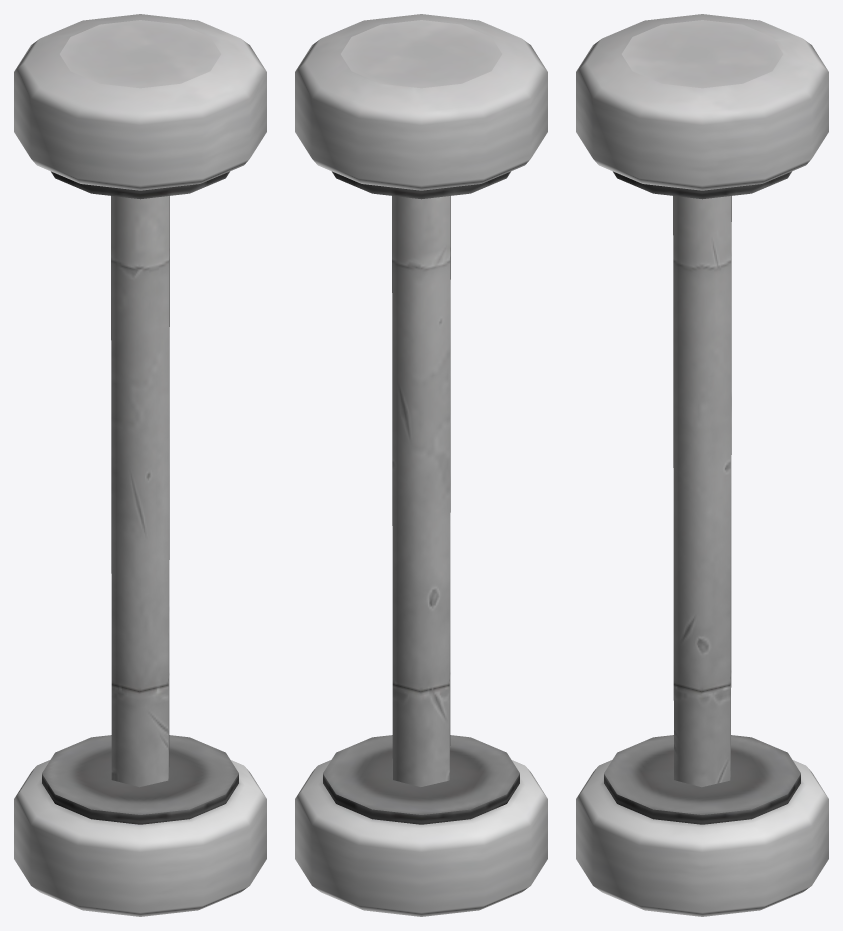
The model's file is MeleeWeaponAgent_BarbedWire.fbx.
3 renders of one model, left to right at view 1: azimuth 30°, elevation 25°; view 2: azimuth 150°, elevation 25°; view 3: azimuth 270°, elevation 25°, orthographic.
Visible parts, largest first — view 1: Prfb_WaterButts_02, Prfb_WaterButts_01, Prfb_BarbedWire_01_04 Variant; view 2: Prfb_WaterButts_02, Prfb_WaterButts_01, Prfb_BarbedWire_01_04 Variant; view 3: Prfb_WaterButts_02, Prfb_WaterButts_01, Prfb_BarbedWire_01_04 Variant.
Part boxes in pixels (x1=…): Prfb_WaterButts_02: x1=14, y1=14, x2=266, y2=199; Prfb_WaterButts_01: x1=14, y1=735, x2=266, y2=916; Prfb_BarbedWire_01_04 Variant: x1=111, y1=196, x2=169, y2=787; Prfb_WaterButts_02: x1=295, y1=14, x2=547, y2=199; Prfb_WaterButts_01: x1=295, y1=735, x2=547, y2=916; Prfb_BarbedWire_01_04 Variant: x1=392, y1=196, x2=450, y2=786; Prfb_WaterButts_02: x1=576, y1=14, x2=828, y2=199; Prfb_WaterButts_01: x1=576, y1=735, x2=828, y2=916; Prfb_BarbedWire_01_04 Variant: x1=673, y1=196, x2=731, y2=787.
Bounding box in the file's own units: 0.3607 × 1.29 × 0.3607.
